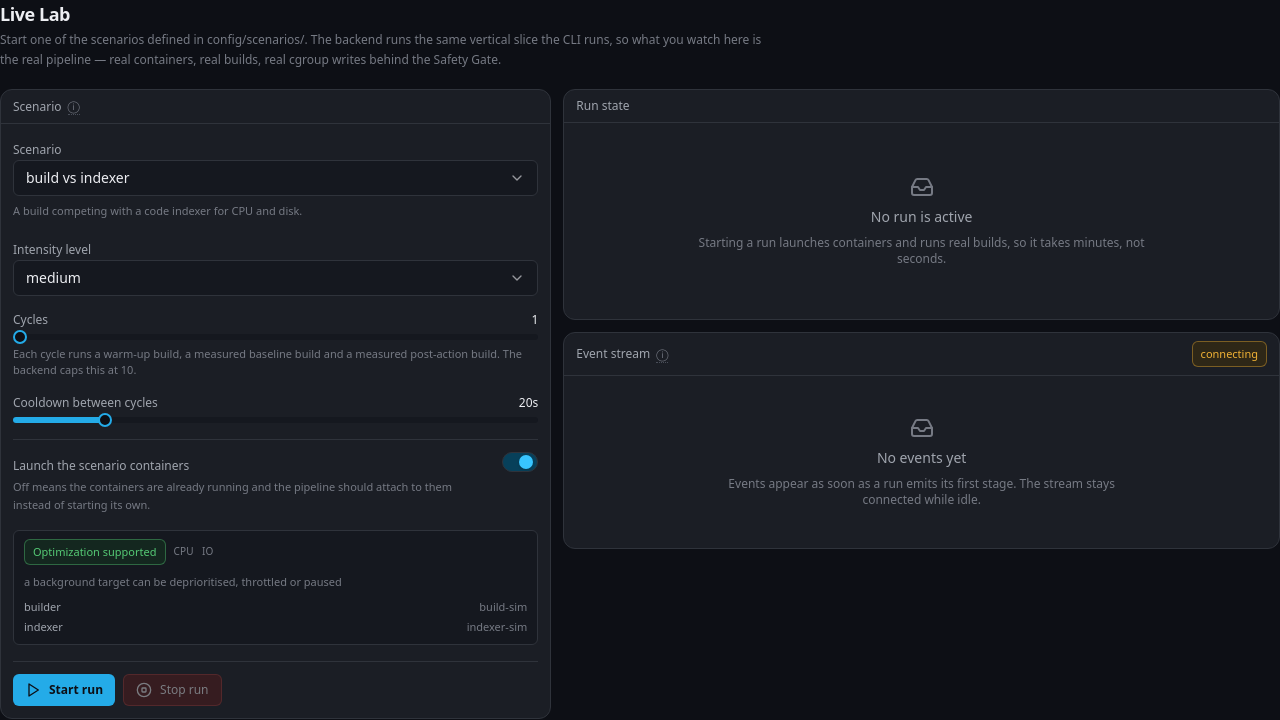
Test case: Live Lab › explains a 409 conflict rather than showing a bare failure
Expected: the text "A build competing with a code indexer for CPU and disk." is shown, [13, 203, 302, 218]
Click the button "Start run" at (64, 690), box [13, 674, 115, 706]
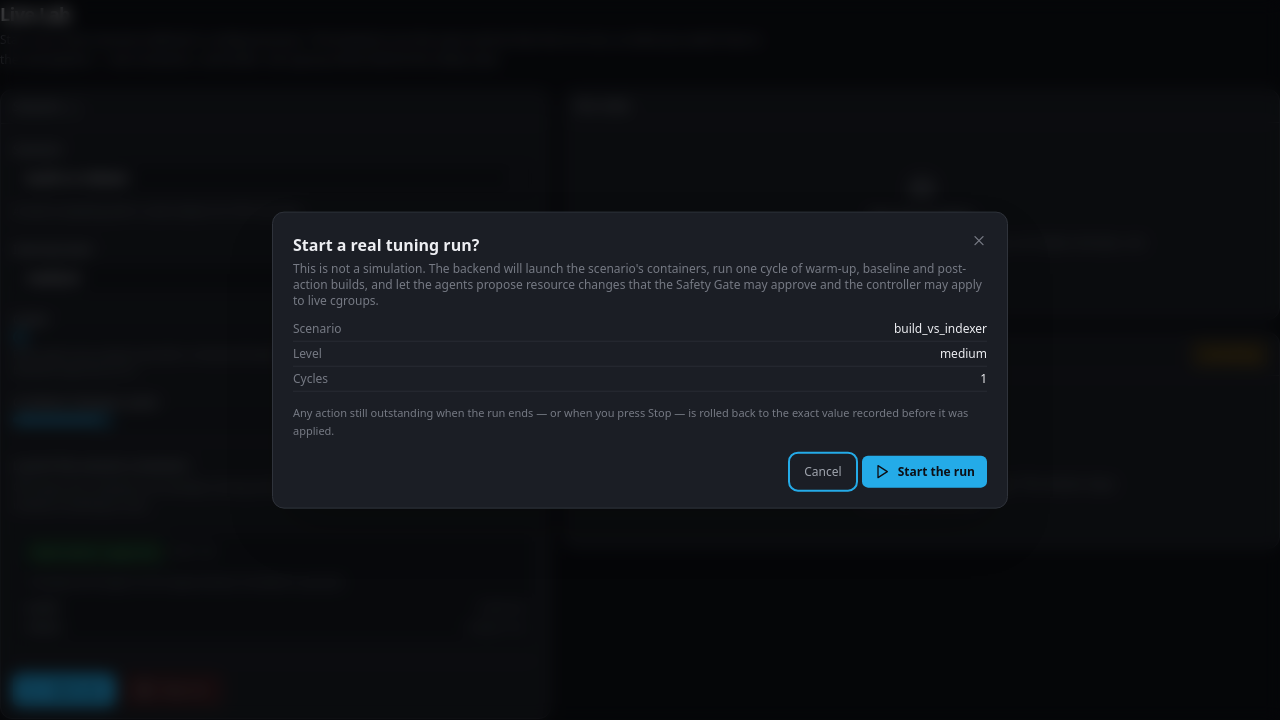
Click the button "Start the run" at (924, 471), box [862, 455, 987, 487]
(page scrolled)
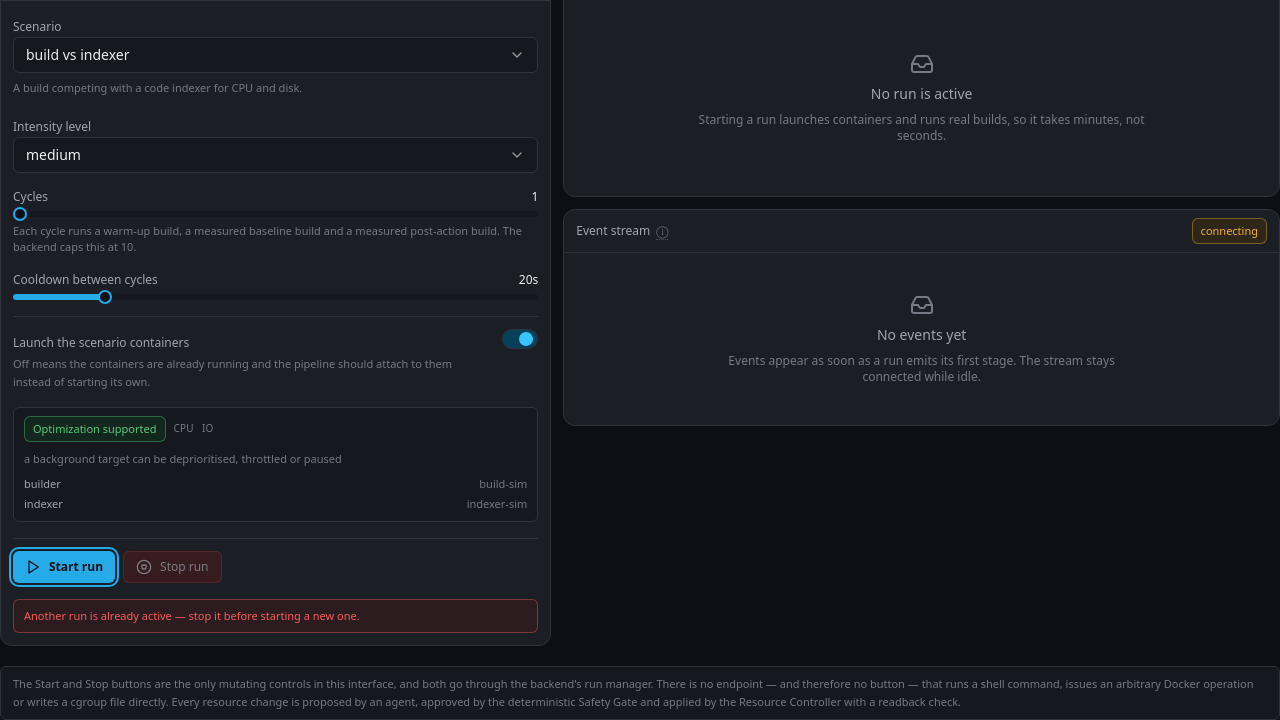
Expected: the text "Another run is already active" is shown, [24, 608, 360, 622]
